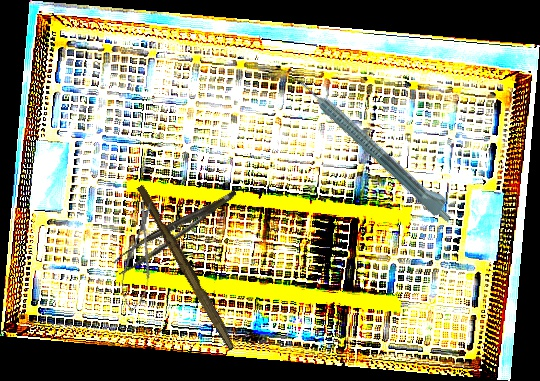Handpiece: (295, 70, 461, 226)
Micro Scissor: (117, 197, 161, 315)
Scalpel Handle: (132, 184, 241, 351)
Tissue Forceps: (108, 189, 246, 276)
